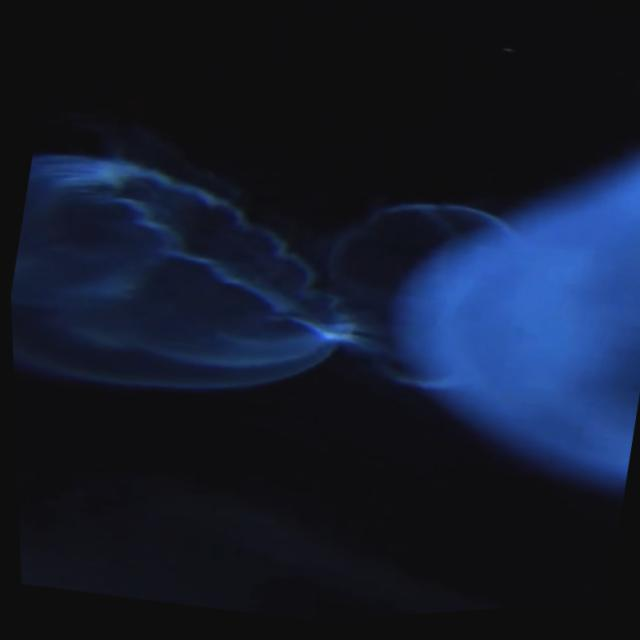Moon-jellyfish: (8, 155, 346, 396), (305, 209, 505, 396)
